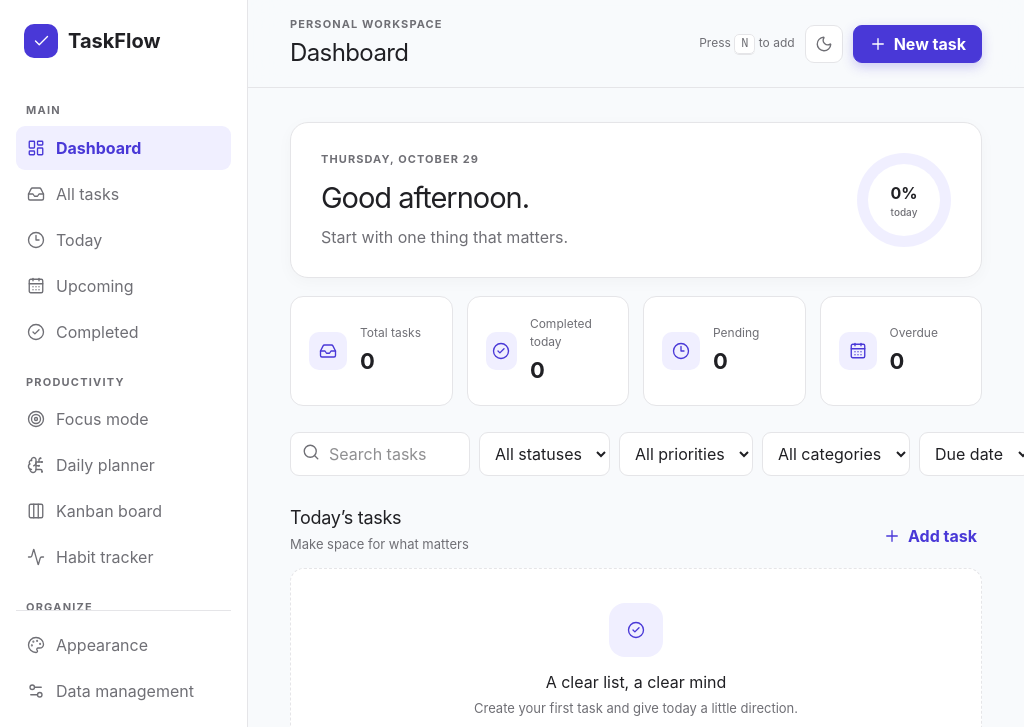
does not carry a captured error into another protected page
The width and height of the screenshot is (1036, 727).
Click the button "Focus mode" at (124, 419), box [16,397,231,441]
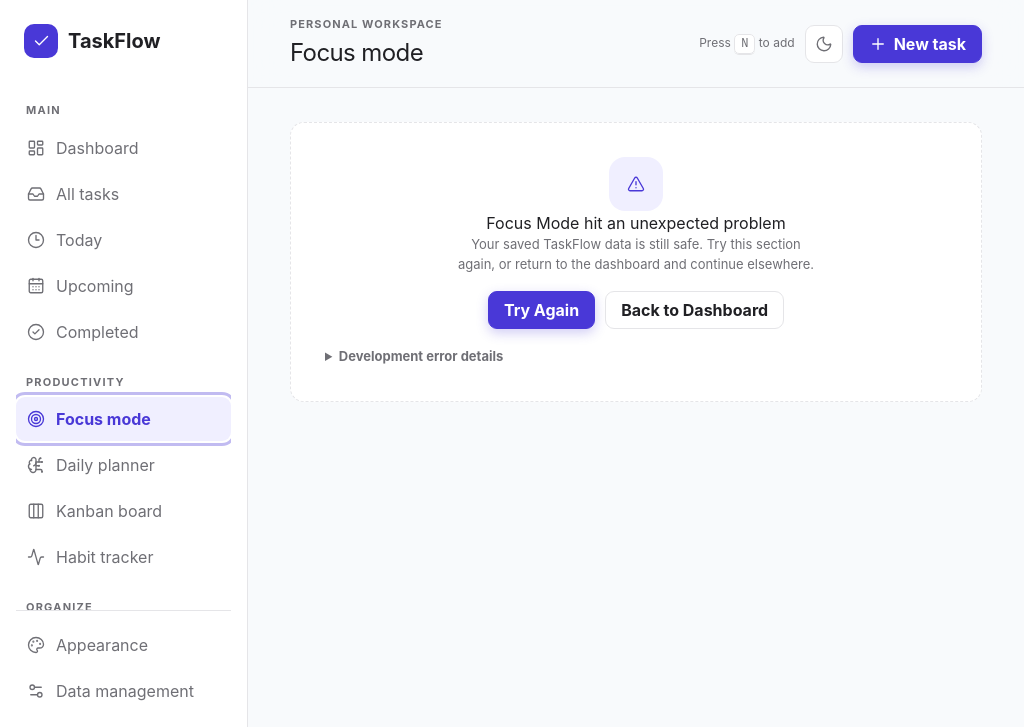
Now the message is shown, box [290,122,982,402]
Click the button "Kanban board" at (124, 511), box [16,489,231,533]
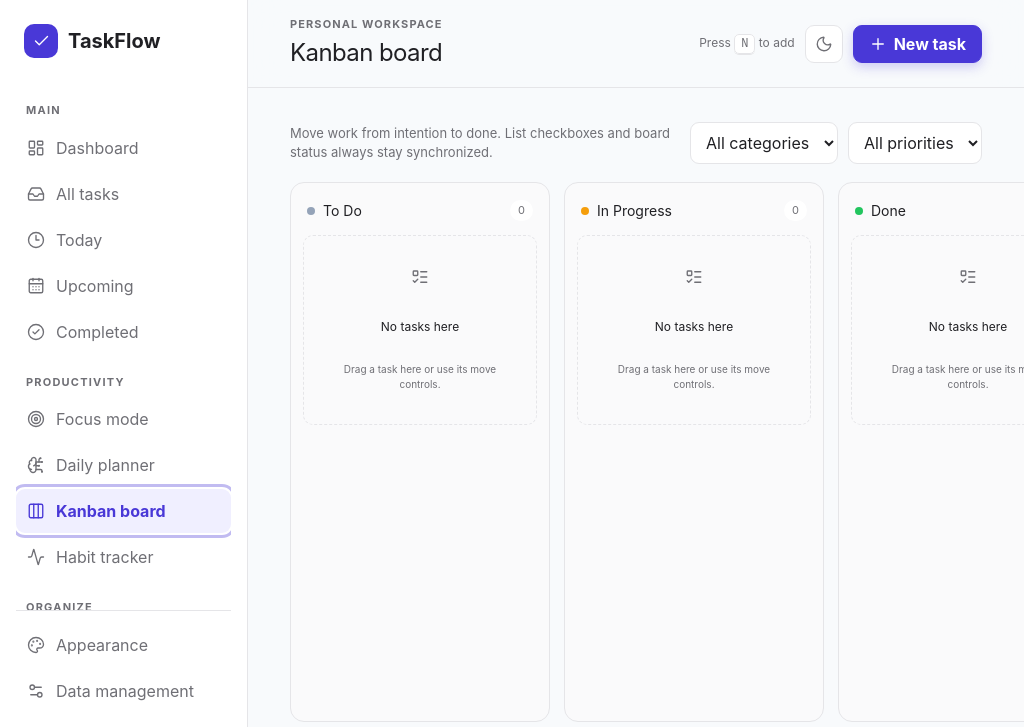
Now the message is gone
Now the heading "Kanban board" is shown, box [290,35,443,71]
